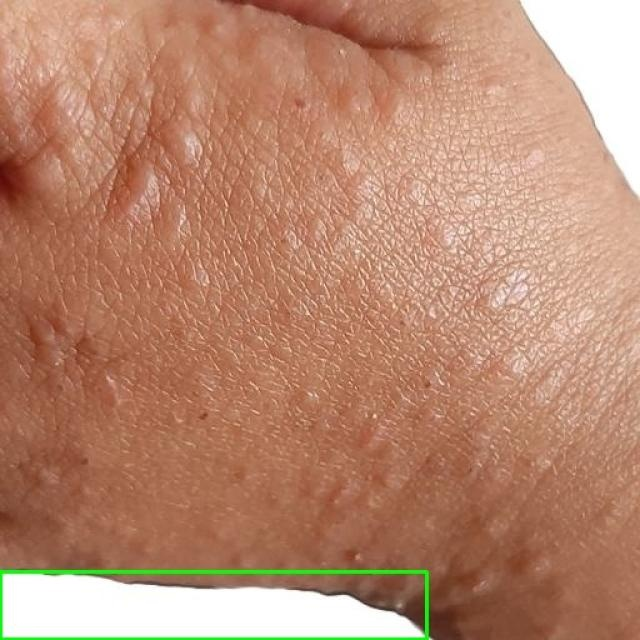Contact Dermatitis: (0, 571, 426, 639)
